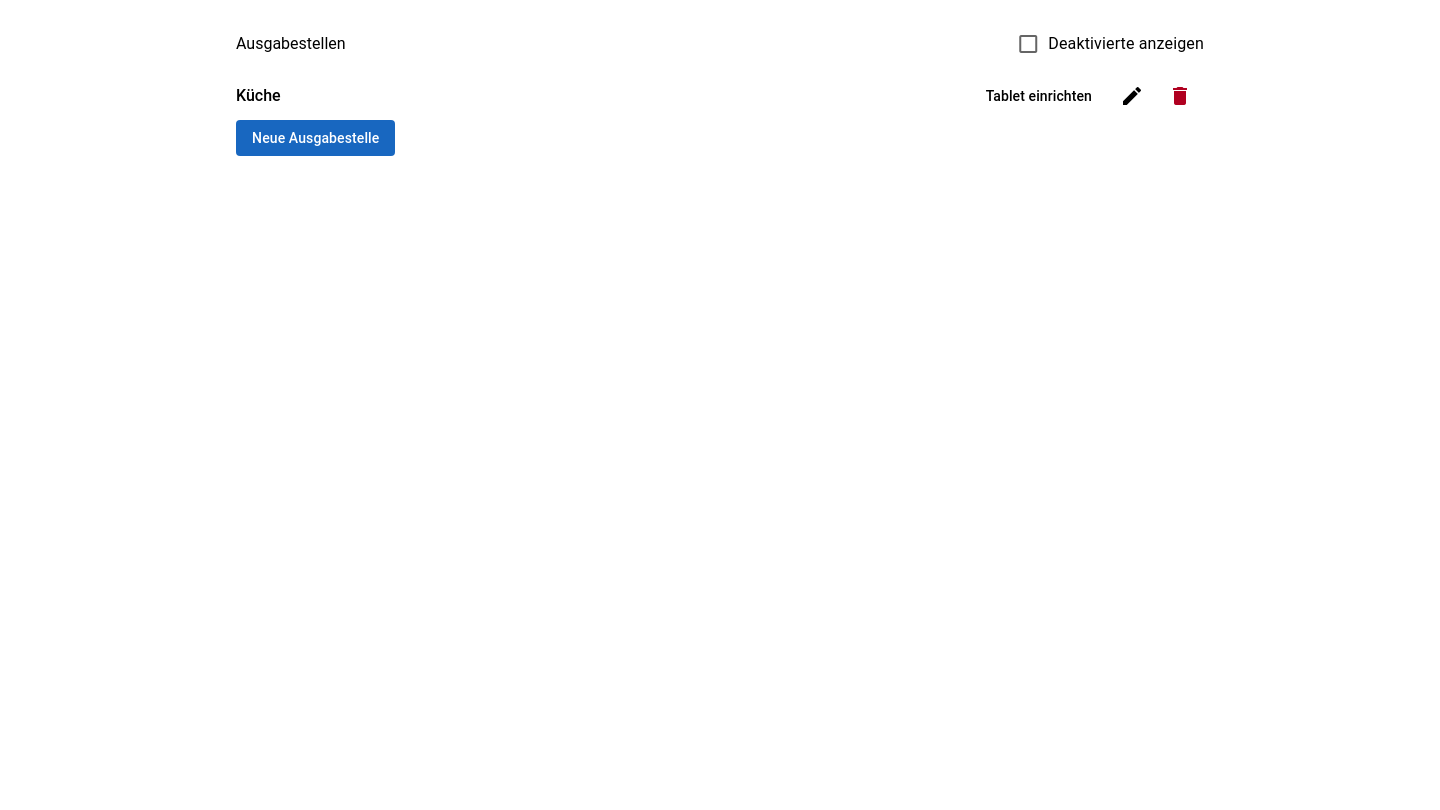
Test case: the length of a station name › stops where the laptop stops storing it
expect the element with test id "station-row" is shown: met, box [236,72,1204,120]
Click the button with test id "edit" at (1132, 96), box [1108,72,1156,120]
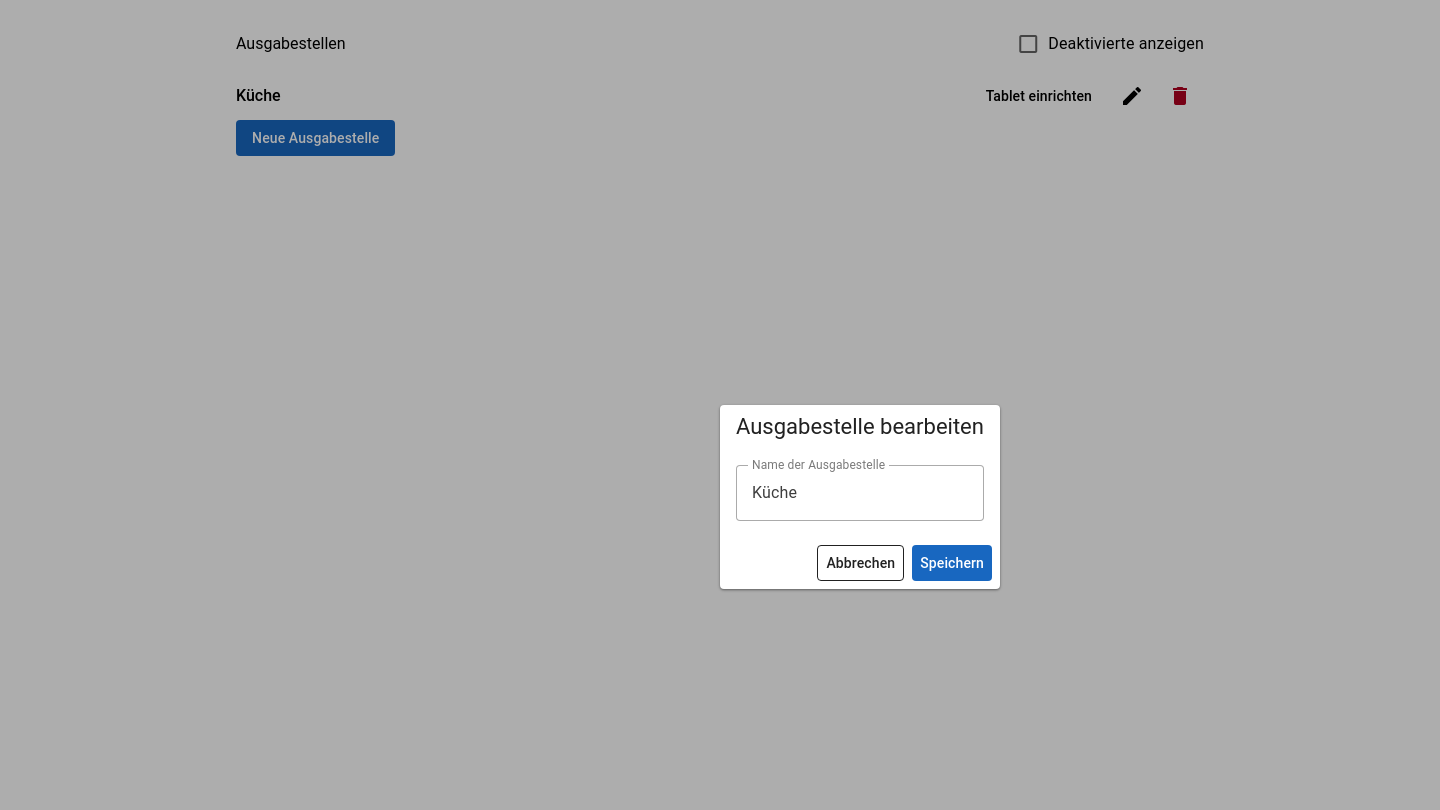
expect the element with test id "station-name-field" is shown: met, box [736,465,984,521]
